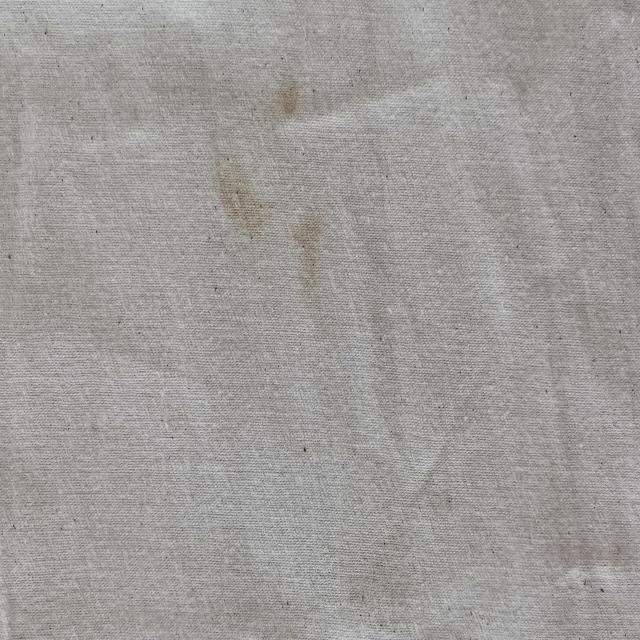taaaches: (208, 136, 272, 272), (290, 193, 332, 346), (276, 56, 302, 130)
